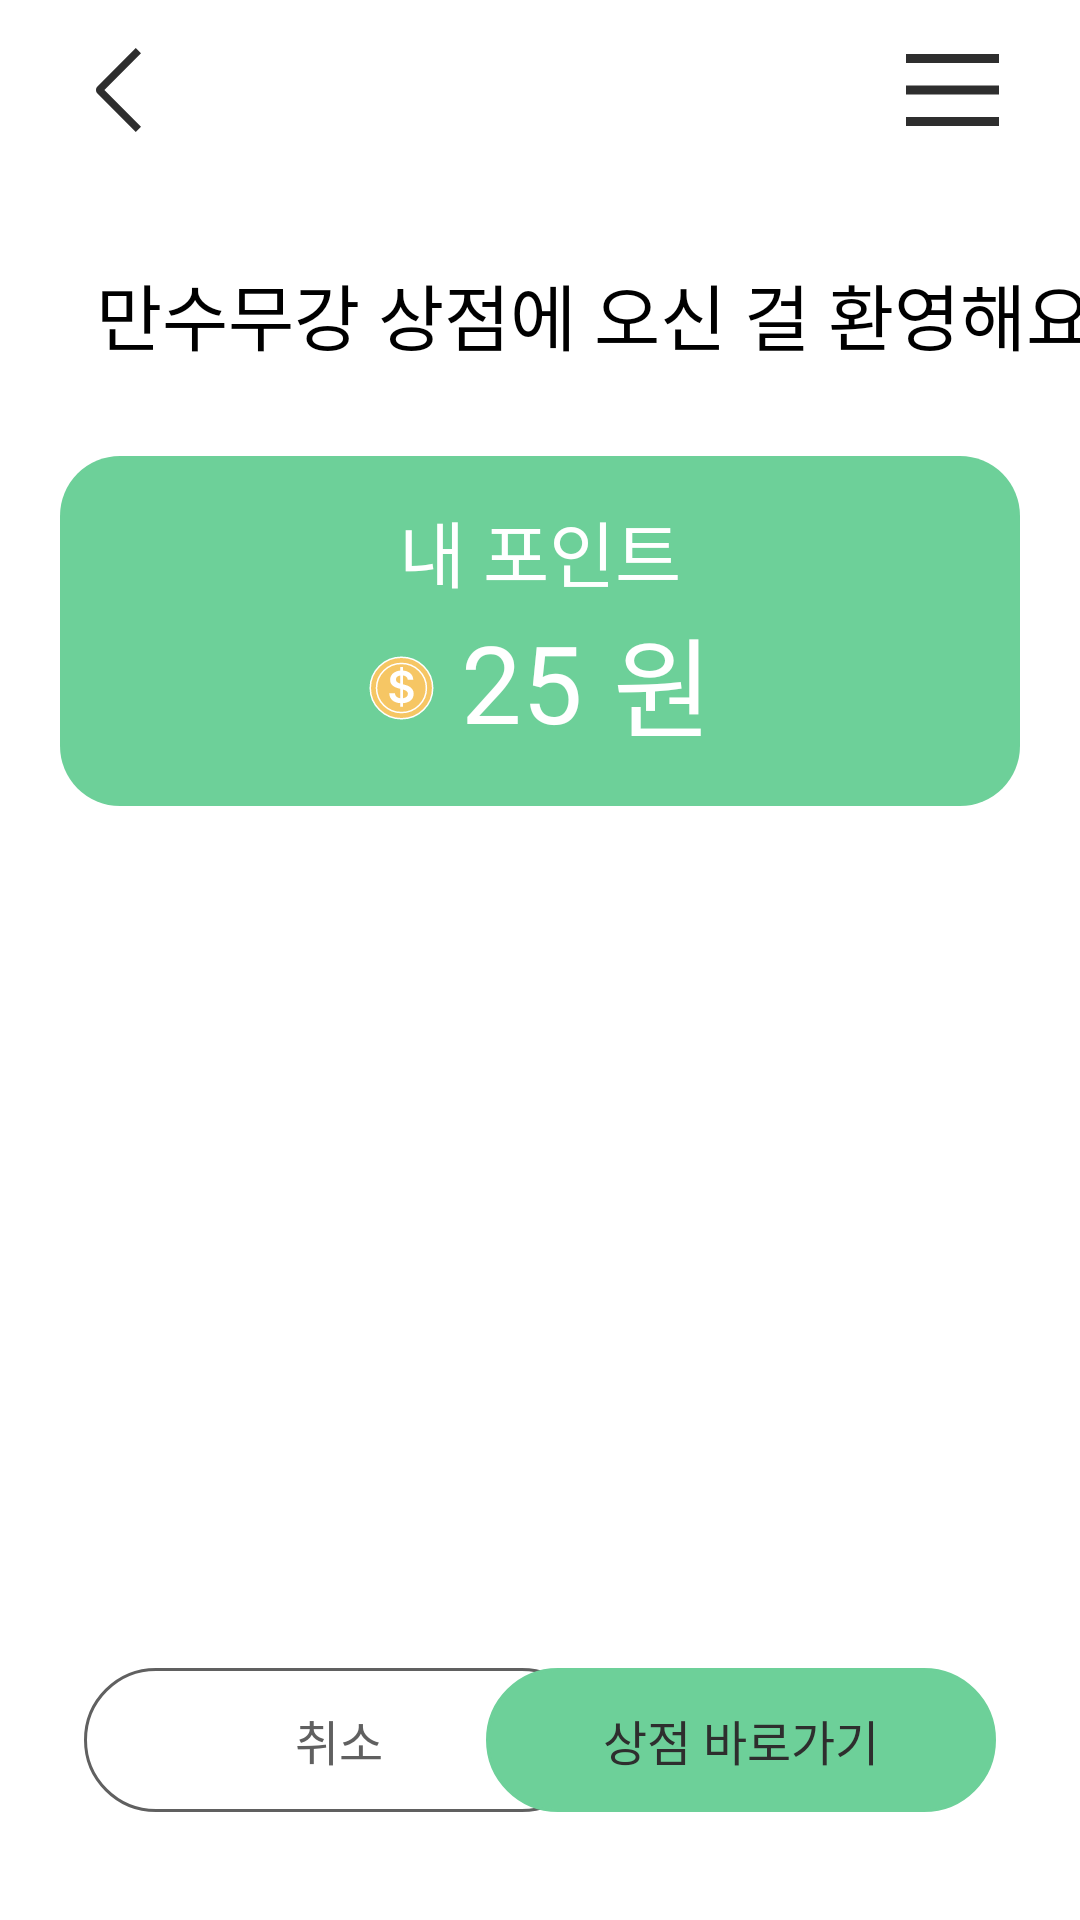

Named icons in this screenshot (1080px x 1920px) and their bounding boxes, (x1,y1,x2,y2):
coin: (369,656,434,720)
menu: (906,54,999,126)
page back: (96,48,141,132)
